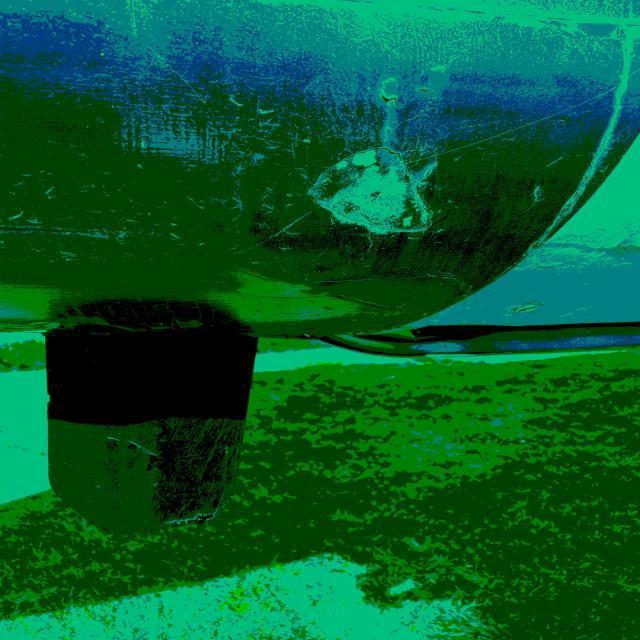crack: (375, 84, 448, 111)
dent: (306, 147, 445, 242)
